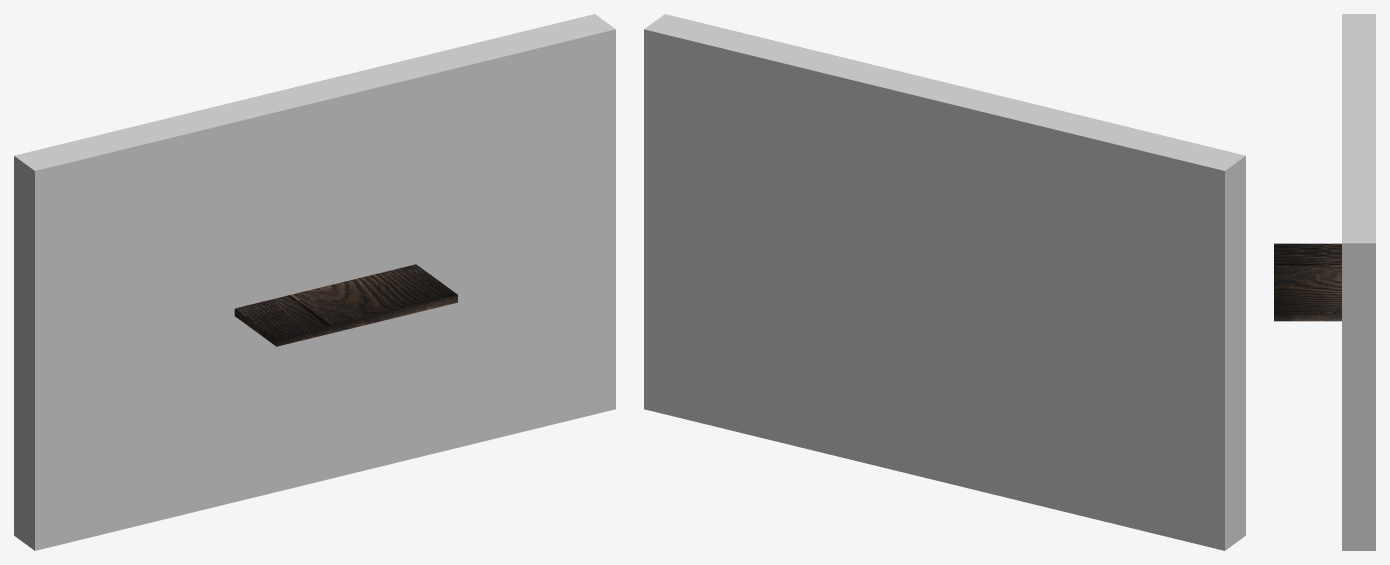
Rendered from desk.glb.
The picture shows the model from 3 angles, left to right: view 1: azimuth 30°, elevation 25°; view 2: azimuth 150°, elevation 25°; view 3: azimuth 270°, elevation 25°; orthographic projection. The views are drawn at different scales.
Parts seen in each view (by area): view 1: Cube.001, Cube; view 2: Cube.001; view 3: Cube.001, Cube.
Part boxes in pixels (x1=…): Cube.001: x1=14, y1=14, x2=615, y2=550; Cube: x1=234, y1=264, x2=457, y2=346; Cube.001: x1=644, y1=14, x2=1245, y2=550; Cube.001: x1=1342, y1=14, x2=1375, y2=550; Cube: x1=1274, y1=243, x2=1341, y2=321.
Size of the model in its own units: 32 by 20 by 6.
1 material, 1 textured.
